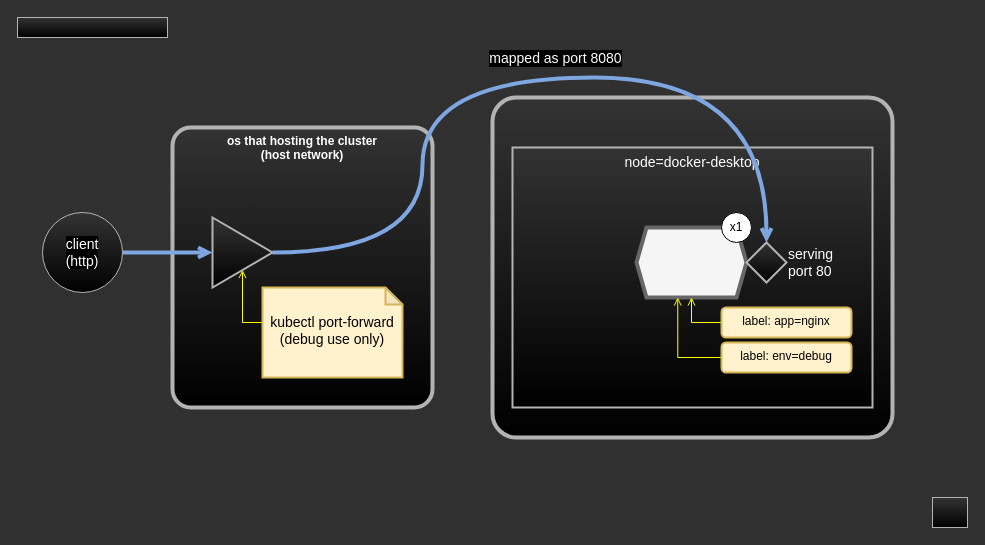
Image size: 985x545. Some labels were removed from this diagram. Here are the shapes that lost their labels. From the top down, the box of each, then its label:
(16, 16, 168, 38): hello-nginx-plan
(211, 216, 273, 288): port-forward
(634, 225, 748, 299): pod name: nginx
(490, 95, 894, 439): k8s cluster (internal network)
